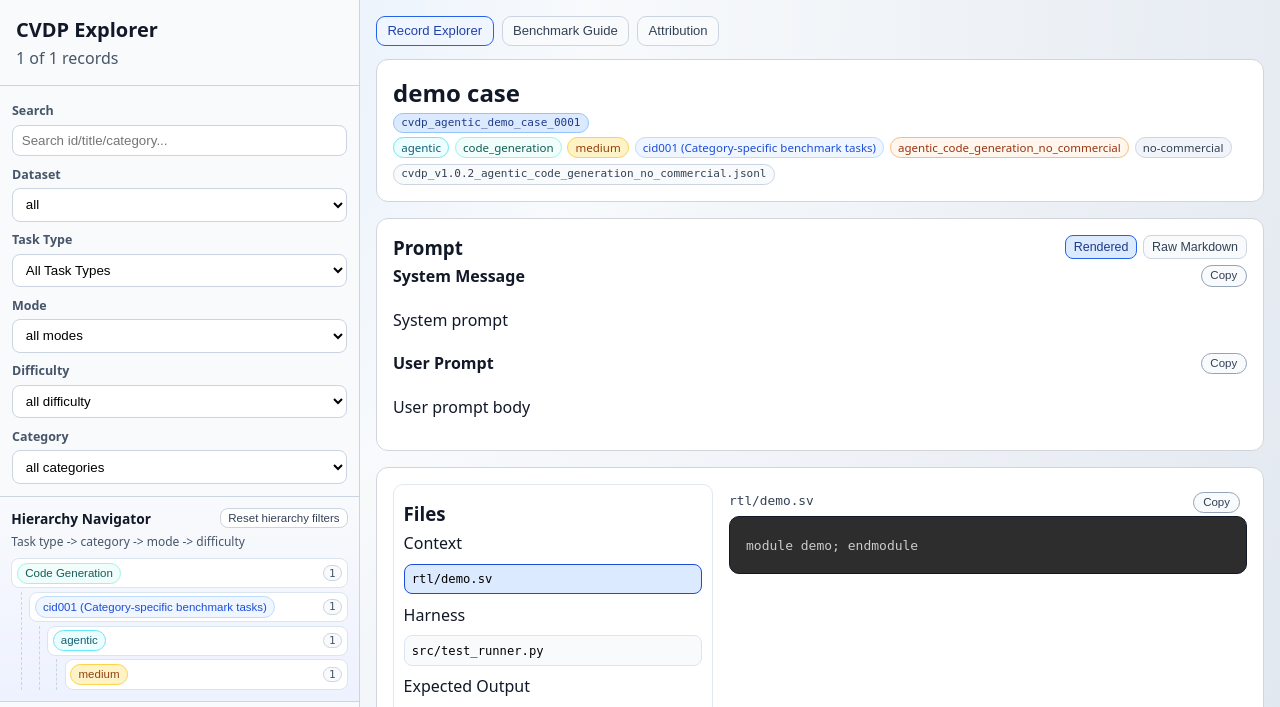
Test: App › renders attribution section with repository and author links
Check: the heading "demo case" is shown, box 393,76 -> 520,109
Click the button "Attribution" at (678, 31), box 637,16 -> 719,46
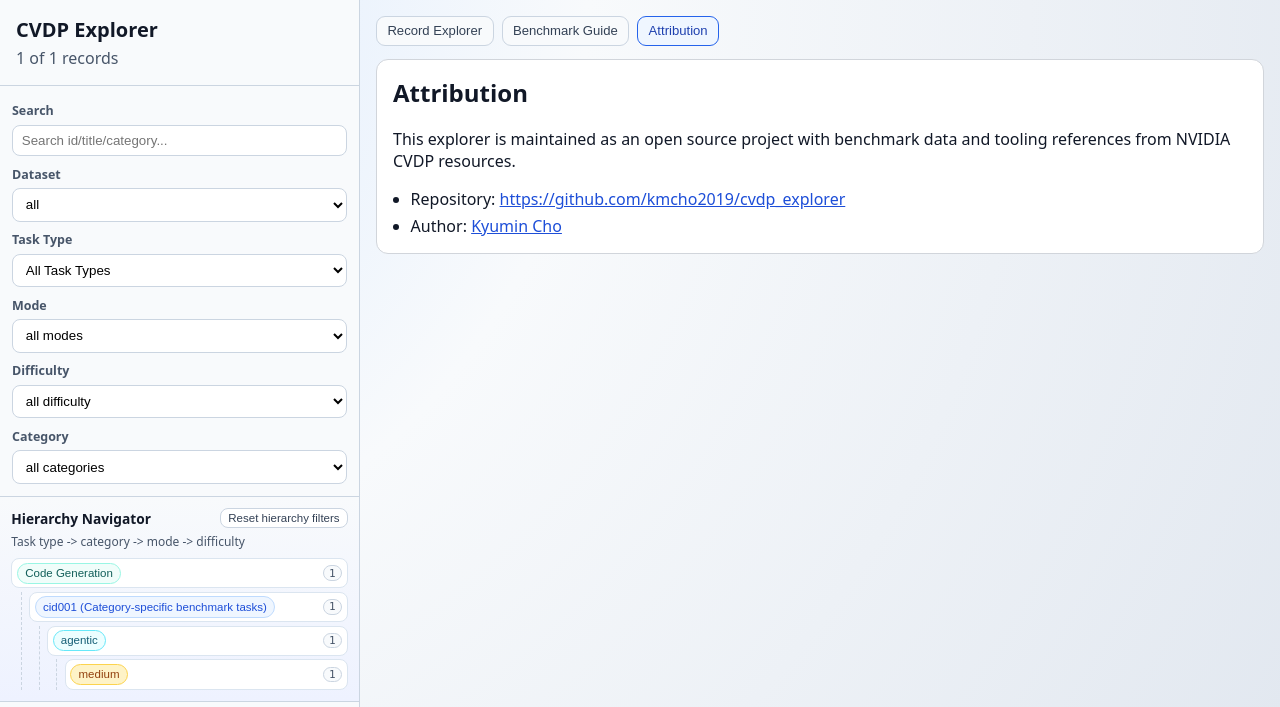
Check: the heading "Attribution" is shown, box 393,76 -> 528,109
Click the button "Record Explorer" at (435, 31), box 376,16 -> 494,46
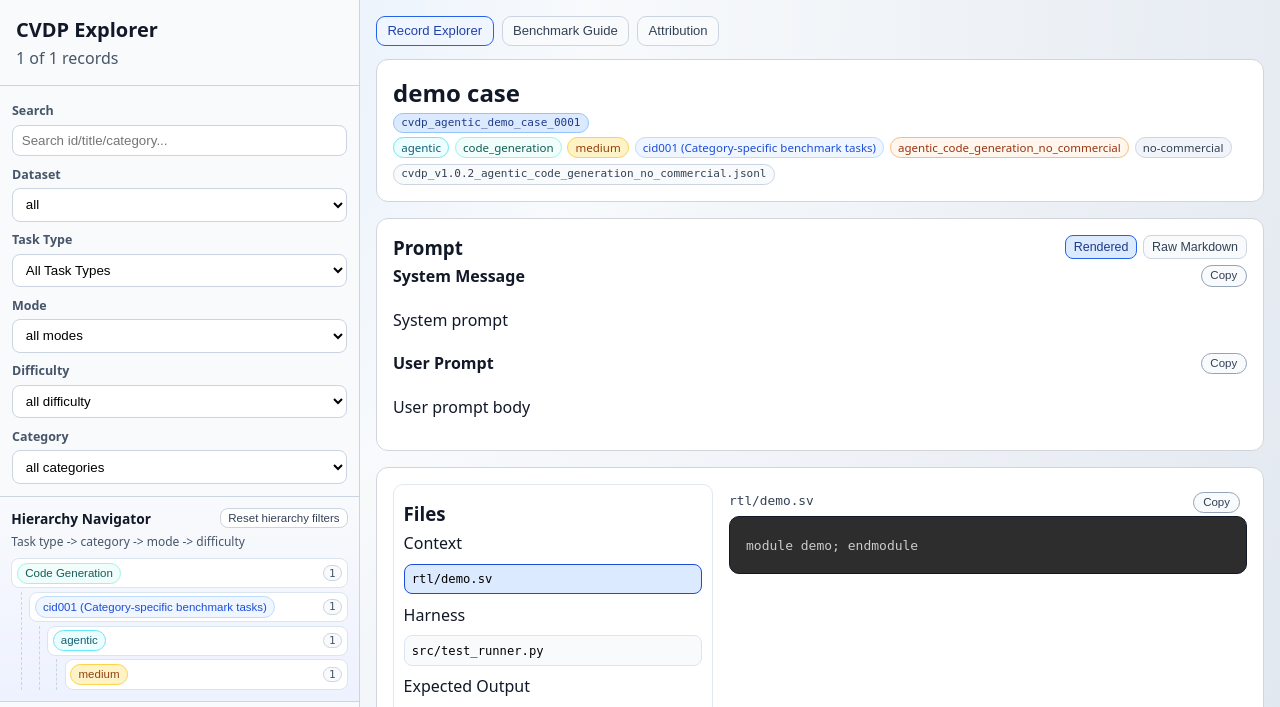
Check: the heading "demo case" is shown, box 393,76 -> 520,109
